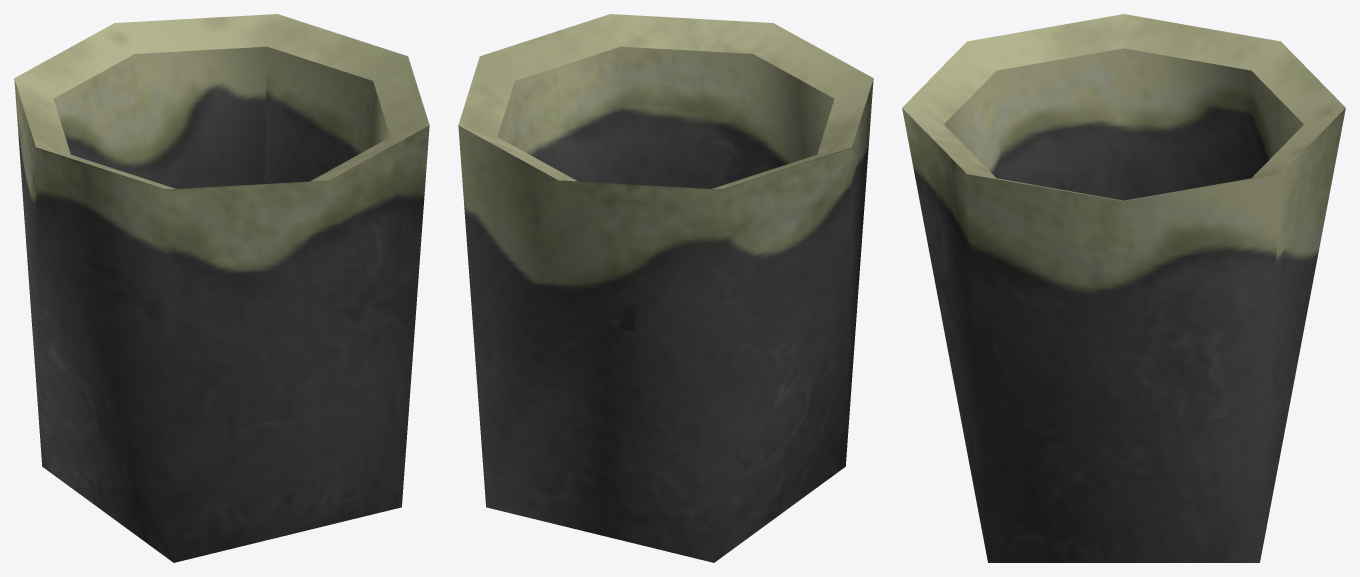
The model's file is mizugame.fbx.
3 views of the same model, side by side, from view 1: azimuth 30°, elevation 25°; view 2: azimuth 150°, elevation 25°; view 3: azimuth 270°, elevation 25° (orthographic). The views are drawn at different scales.
Visible parts, largest first — view 1: mizugame1; view 2: mizugame1; view 3: mizugame1.
Boxes of the visible parts, x1,y1,x2,y2 form: mizugame1: (14, 14, 429, 562); mizugame1: (458, 14, 873, 562); mizugame1: (902, 14, 1345, 562).
Size of the model in its own units: 2.31 by 2.28 by 2.31.
Materials: 1 (1 with a texture image).
